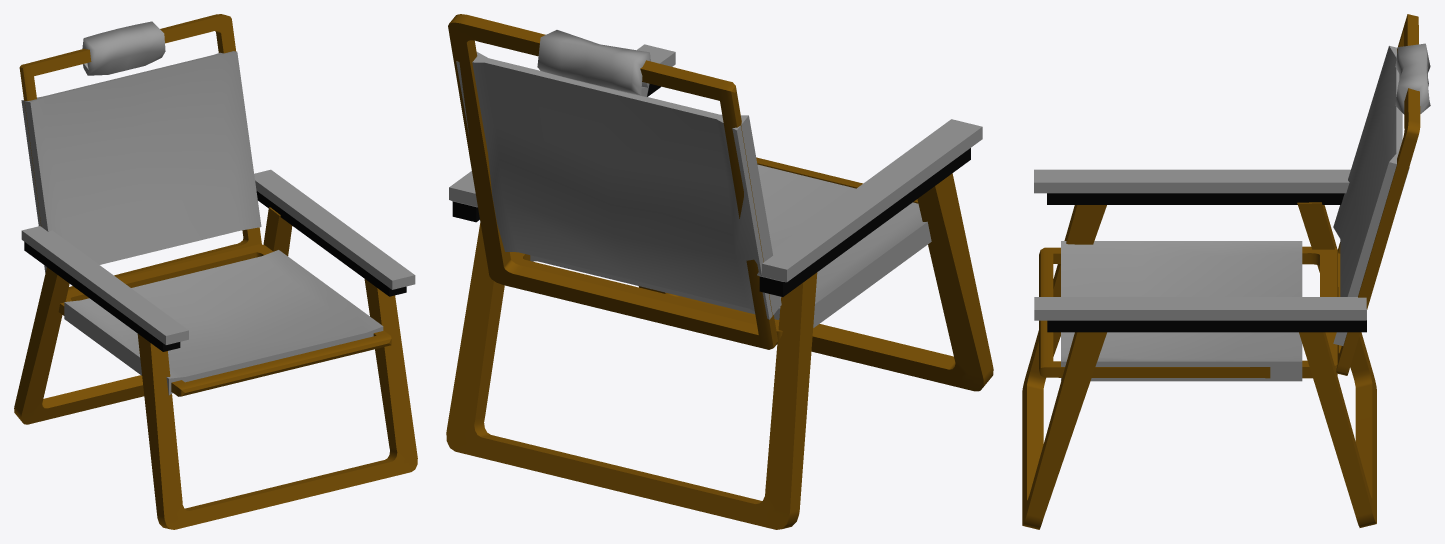
File: chair2.fbx
3 views of the same model, side by side, from view 1: azimuth 30°, elevation 25°; view 2: azimuth 150°, elevation 25°; view 3: azimuth 270°, elevation 25° (orthographic). The views are drawn at different scales.
Visible parts, largest first — view 1: chair2; view 2: chair2; view 3: chair2.
Part boxes in pixels (x1,y1,x2,y2): chair2: [14, 14, 417, 529]; chair2: [446, 14, 993, 529]; chair2: [1022, 14, 1430, 529].
Size of the model in its own units: 0.00731 by 0.00958 by 0.00883.
Materials: 1 (1 with a texture image).
